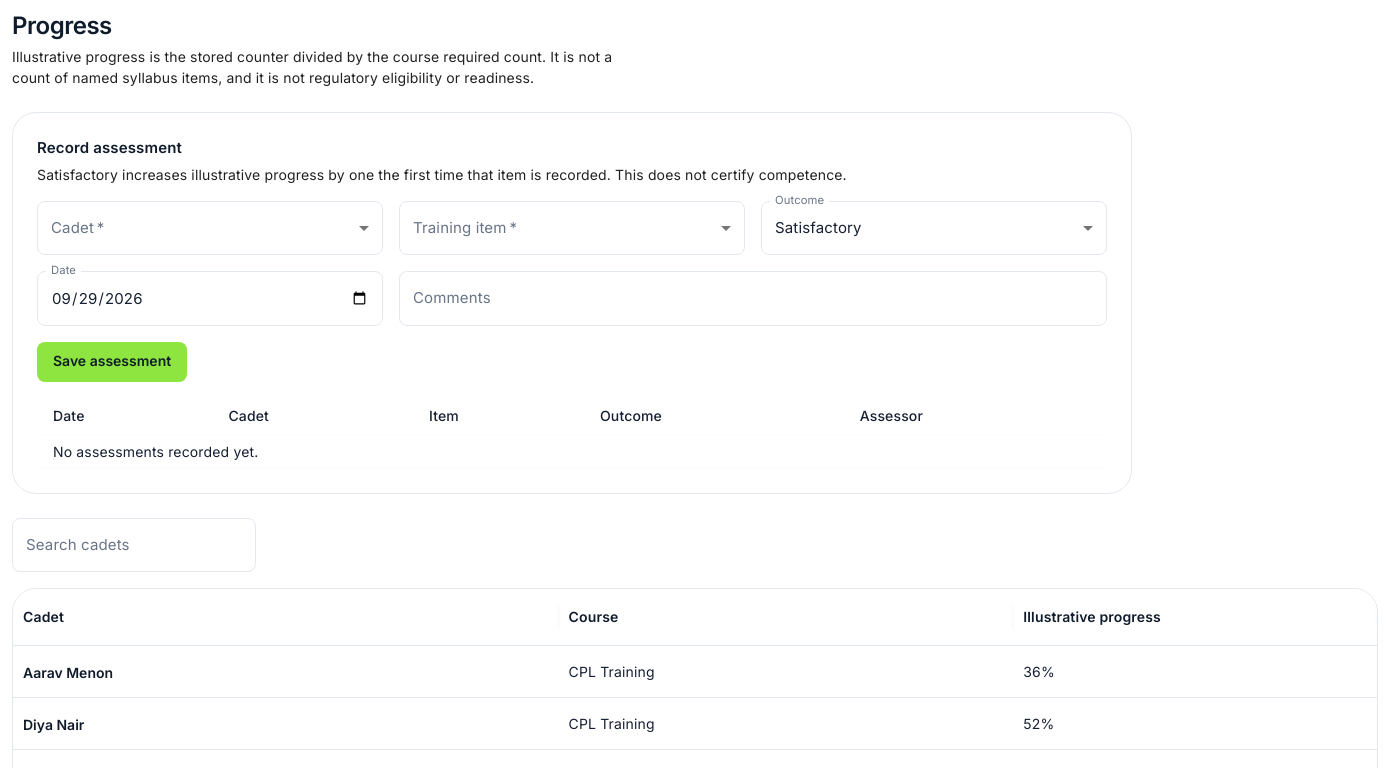
Test case: training screens › shows known illustrative progress and filters the visible register
This screenshot has width=1390, height=768.
expect the text "36%" is shown: met, box left=1013, top=645, right=1377, bottom=697
expect the text "52%" is shown: met, box left=1013, top=697, right=1377, bottom=749
Type "Neil" into the field labelled "Search cadets". click: (134, 545)
box: left=12, top=518, right=256, bottom=572
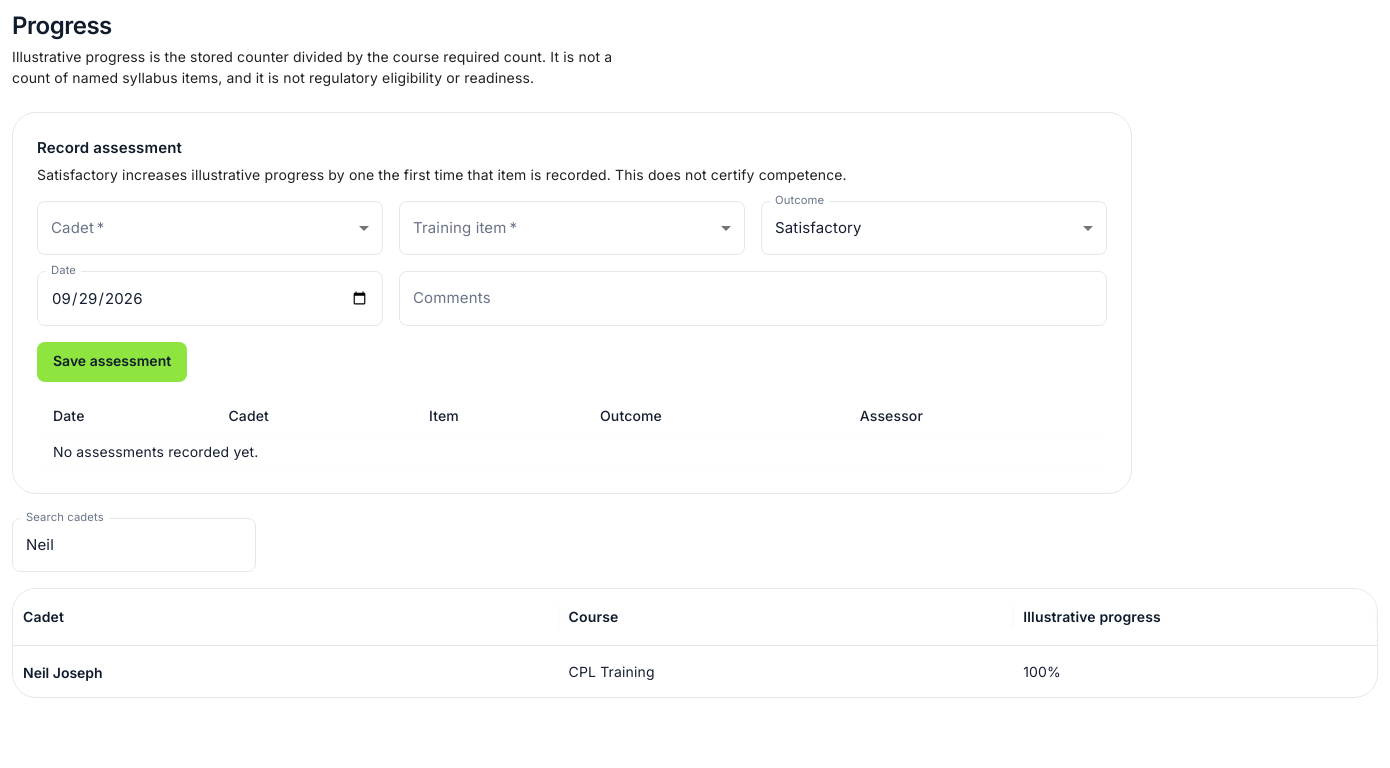
expect the text "100%" is shown: met, box left=1013, top=645, right=1377, bottom=697
expect the text "36%" is gone: met
